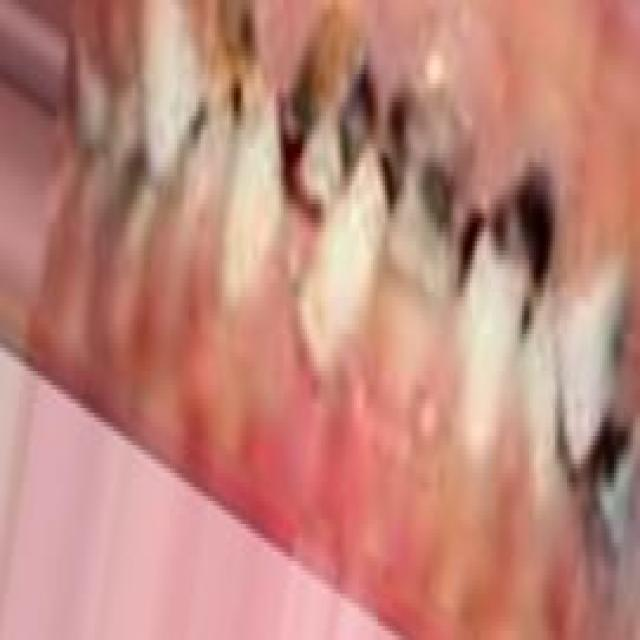caries: (376, 42, 462, 299), (465, 123, 554, 339), (285, 12, 375, 208), (205, 0, 280, 152), (564, 398, 634, 520)
